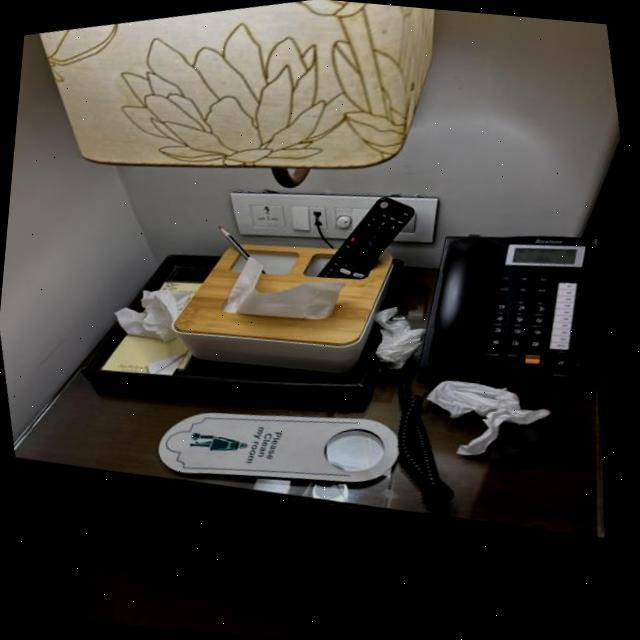mess: (427, 375, 558, 466), (349, 303, 432, 387), (124, 273, 198, 354)
messy_table: (0, 251, 599, 640)
